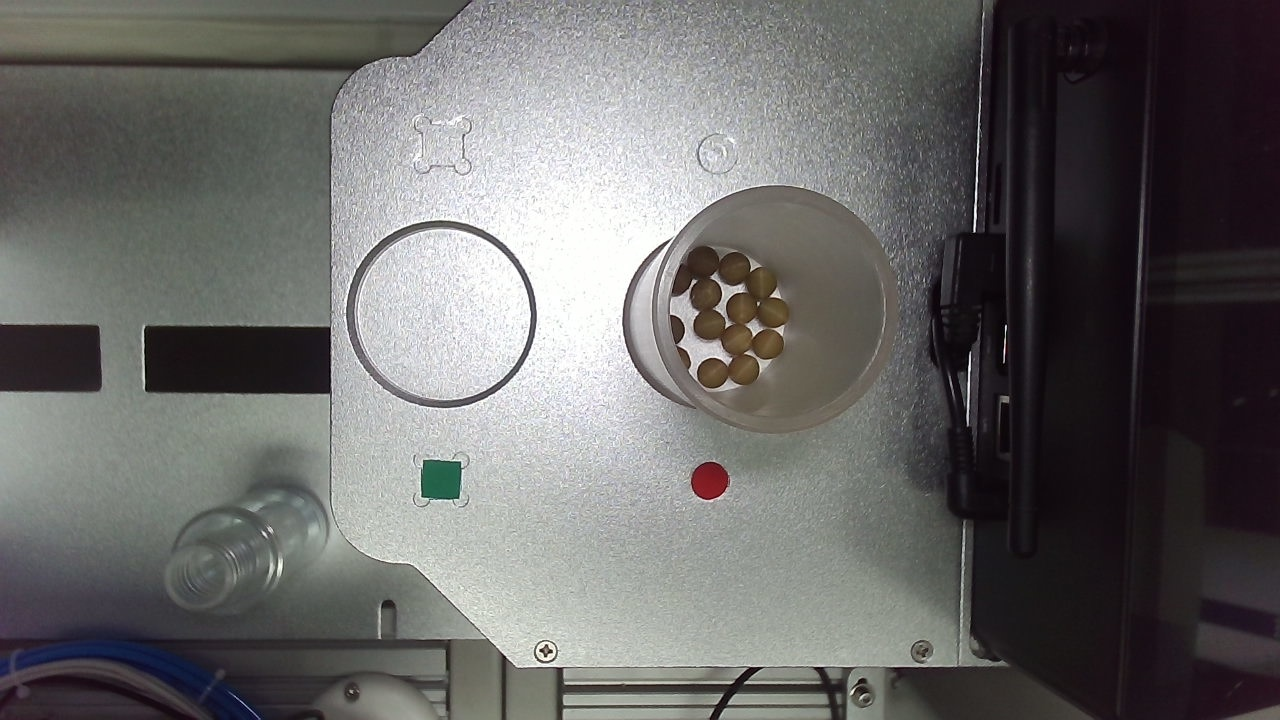XLabel: (663, 287, 697, 320)
YLabel: (441, 282, 477, 317)
none: (375, 350, 536, 512)
transparenexcept: (600, 348, 815, 558)
